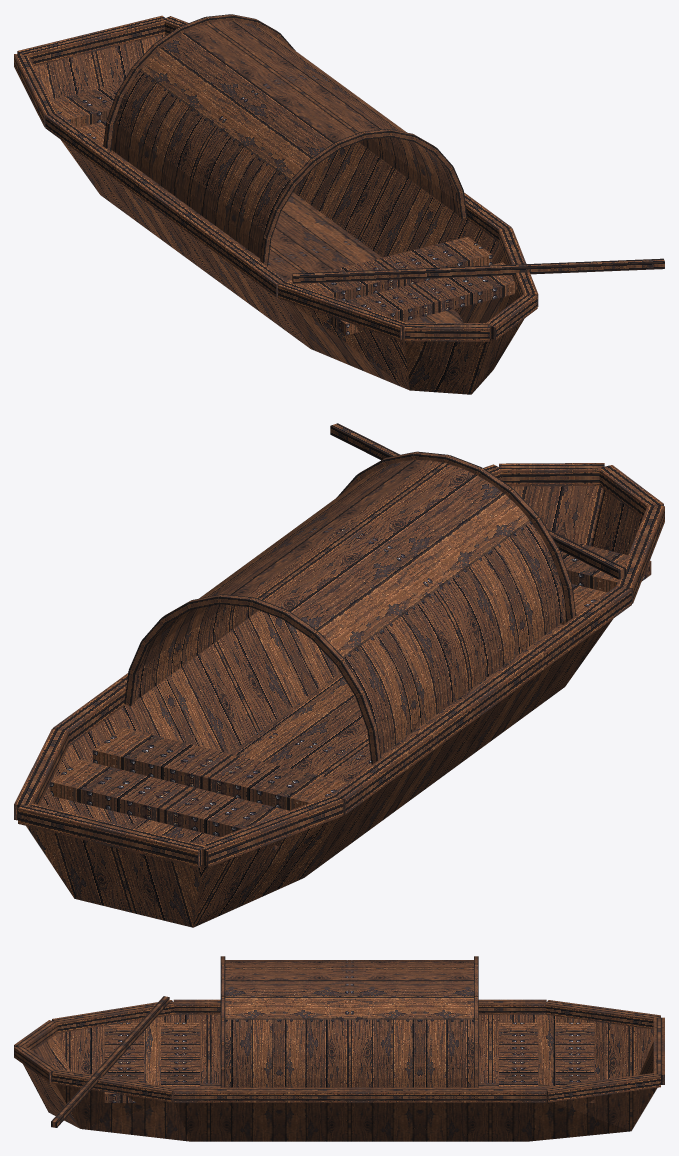
Rendered from boat.glb.
3 views of the same model, one above another, from view 1: azimuth 30°, elevation 25°; view 2: azimuth 150°, elevation 25°; view 3: azimuth 270°, elevation 25° (orthographic). The views are drawn at different scales.
Parts seen in each view (by area): view 1: boat_canal_wood; view 2: boat_canal_wood; view 3: boat_canal_wood.
Part boxes in pixels (x1,y1,x2,y2): boat_canal_wood: (14,14,664,394); boat_canal_wood: (14,423,664,927); boat_canal_wood: (14,956,664,1141).
Size of the model in its own units: 2.09 by 1.16 by 4.62.
Materials: 1 (1 with a texture image).
